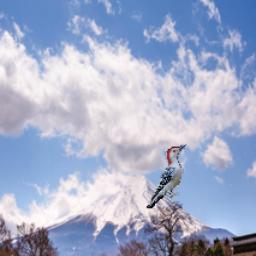Woodpecker: (145, 143, 186, 208)
